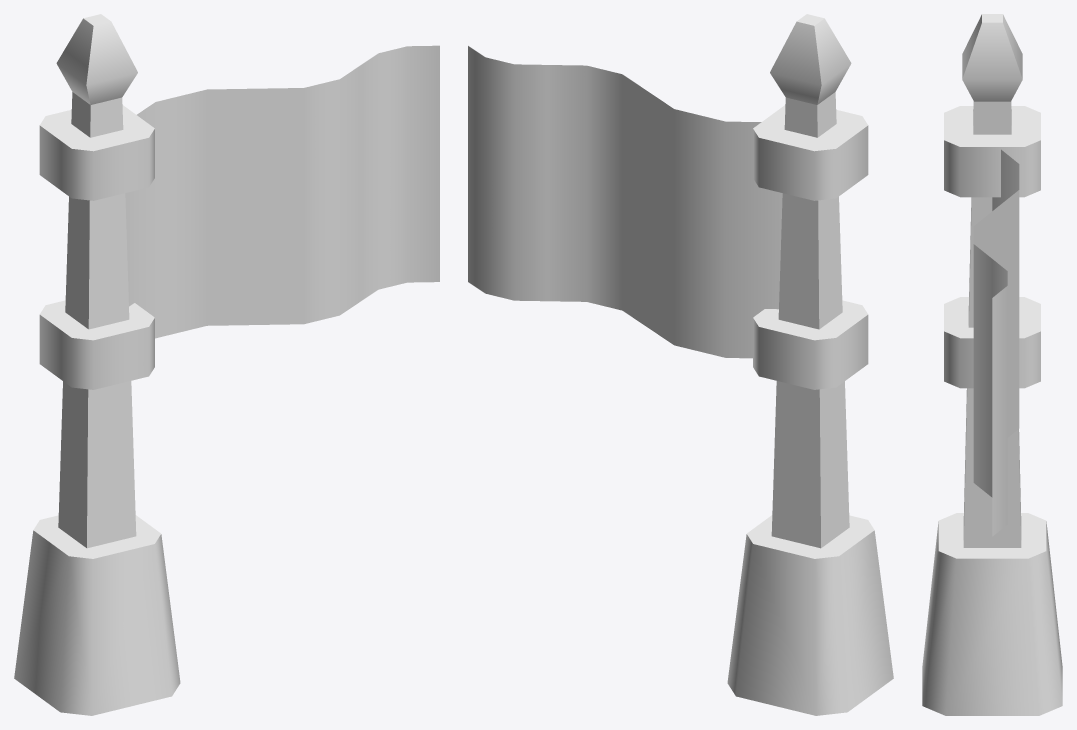
Rendered from flag-pirate.glb.
3 views of the same model, side by side, from view 1: azimuth 30°, elevation 25°; view 2: azimuth 150°, elevation 25°; view 3: azimuth 270°, elevation 25° (orthographic).
Parts seen in each view (by area): view 1: flag-pirate; view 2: flag-pirate; view 3: flag-pirate.
Part boxes in pixels (x1,y1,x2,y2): flag-pirate: (14,14,439,715); flag-pirate: (468,14,893,715); flag-pirate: (922,14,1062,715).
Bounding box in the file's own units: 1.34 × 2.1 × 0.3988.
Materials: 1 (1 with a texture image).
